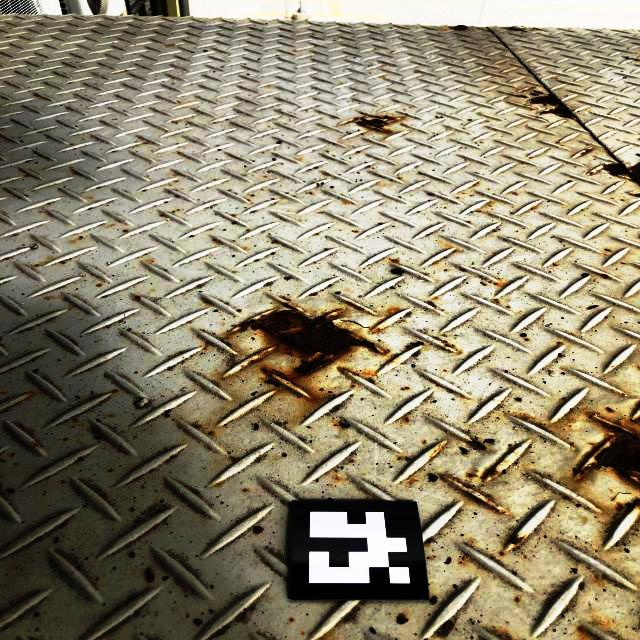Corrosion: (229, 309, 389, 376), (575, 415, 640, 484), (530, 93, 576, 119), (347, 115, 403, 134), (603, 162, 640, 186), (241, 350, 270, 369), (262, 367, 292, 385), (466, 491, 489, 506), (469, 437, 488, 451), (345, 300, 365, 309), (510, 534, 524, 546), (486, 467, 497, 477), (283, 304, 300, 310), (580, 148, 593, 155), (455, 25, 468, 30), (514, 94, 529, 98), (468, 472, 479, 477), (464, 484, 473, 489), (391, 259, 399, 263), (604, 248, 611, 252), (602, 274, 610, 277), (635, 193, 640, 197)
